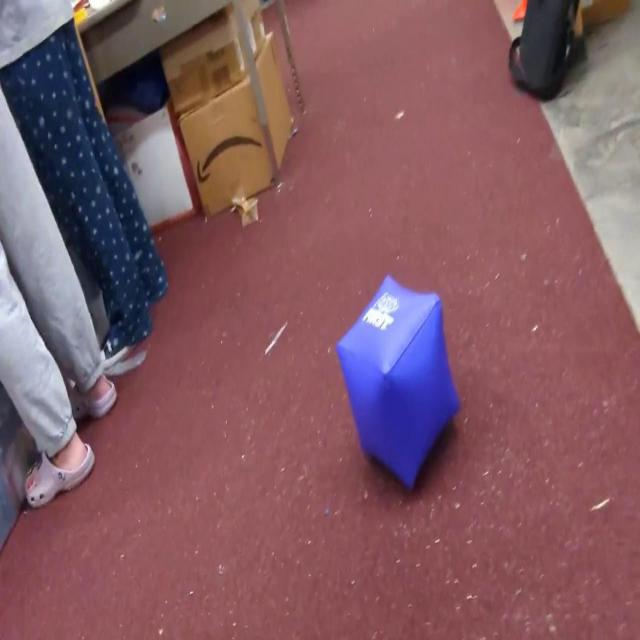frc_cube: (336, 274, 460, 490)
